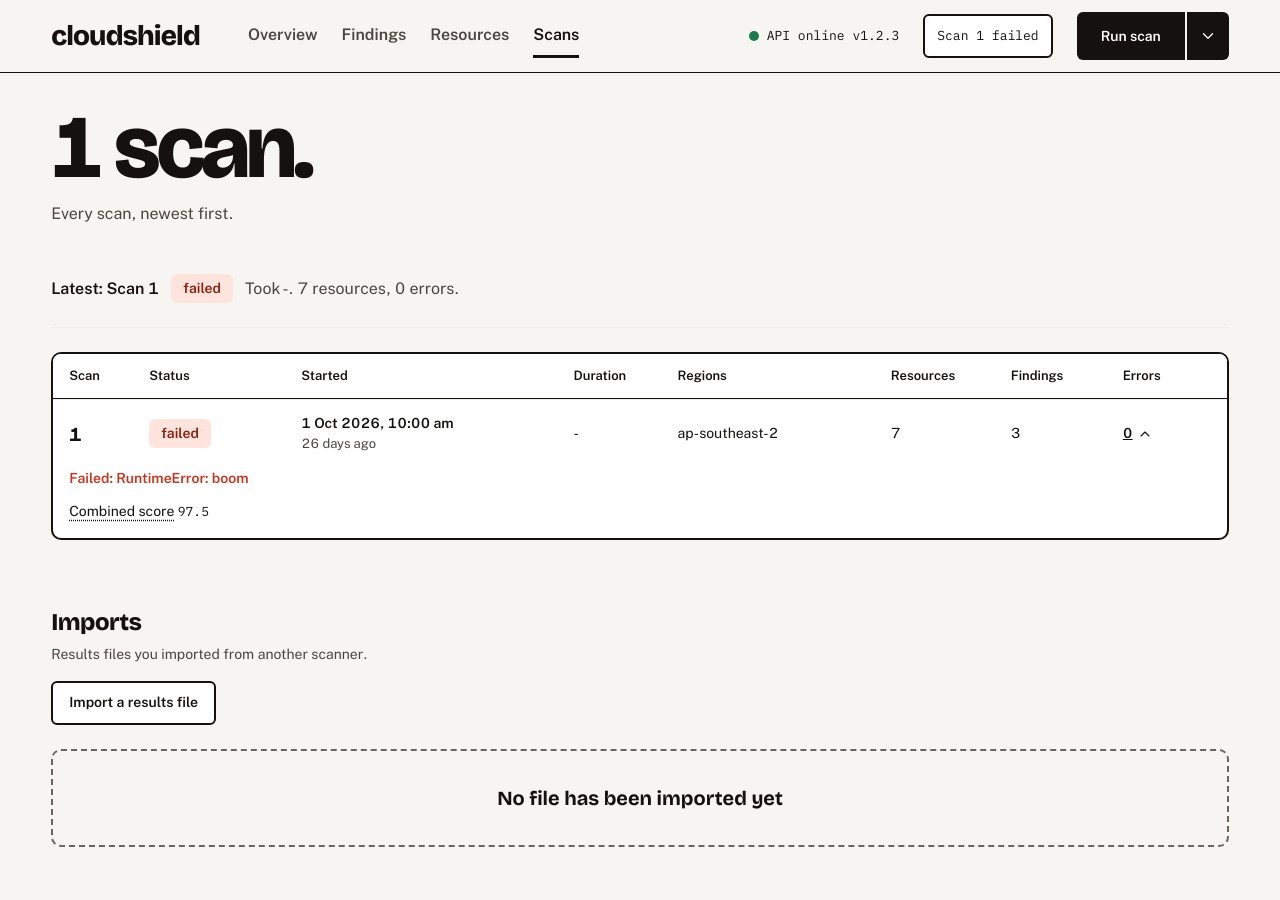
it: Scans › opens a failed scan by default and can close it
This screenshot has width=1280, height=900.
Expected: the message "Failed: RuntimeError: boom" is shown, x1=69 y1=470 x2=248 y2=486
What coordinates should you click on to do the following:
click the button named "Details of scan 1"
I would click on:
 (1138, 434)
Its box is x1=1123 y1=412 x2=1153 y2=456.
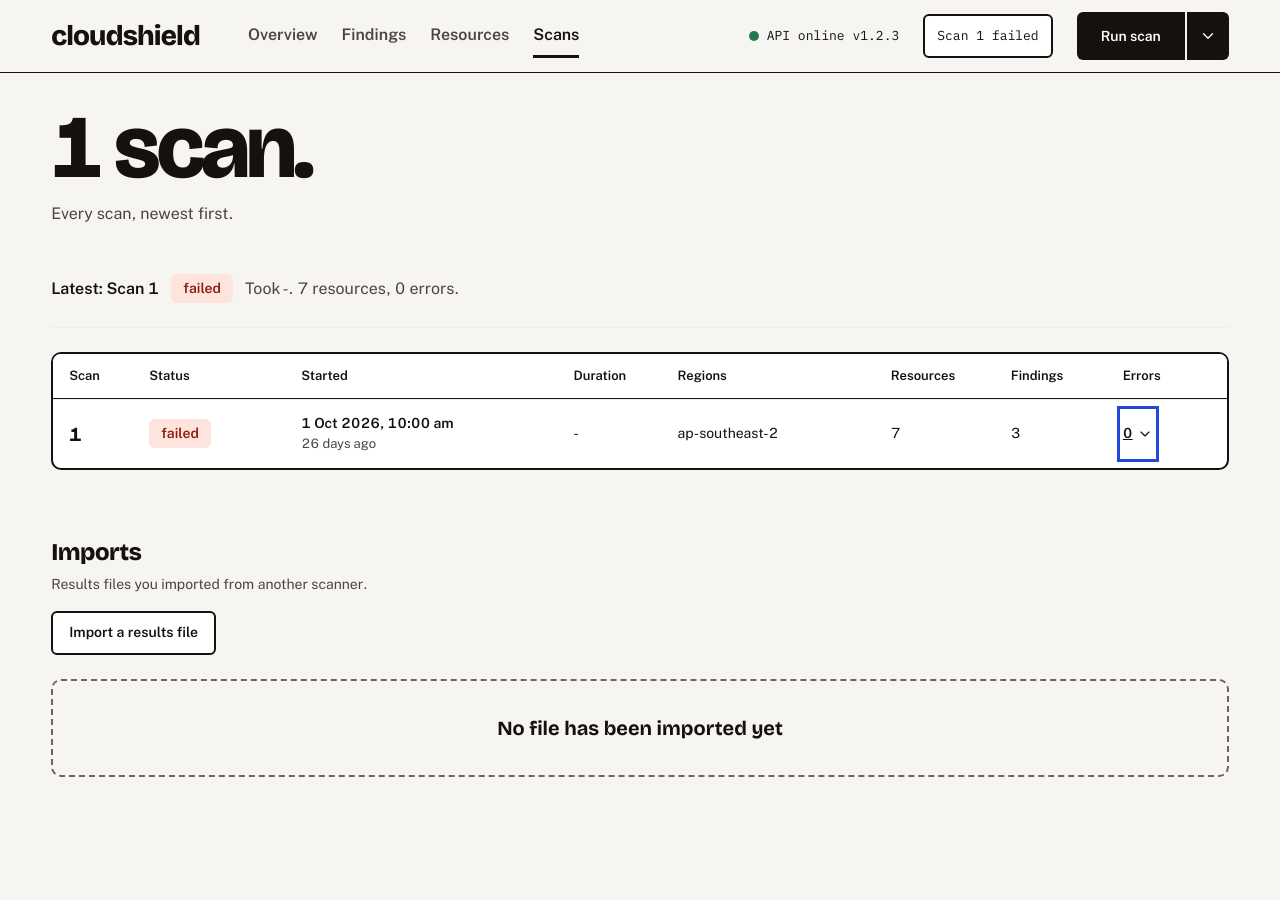
Expected: the message "Failed: RuntimeError: boom" is gone
